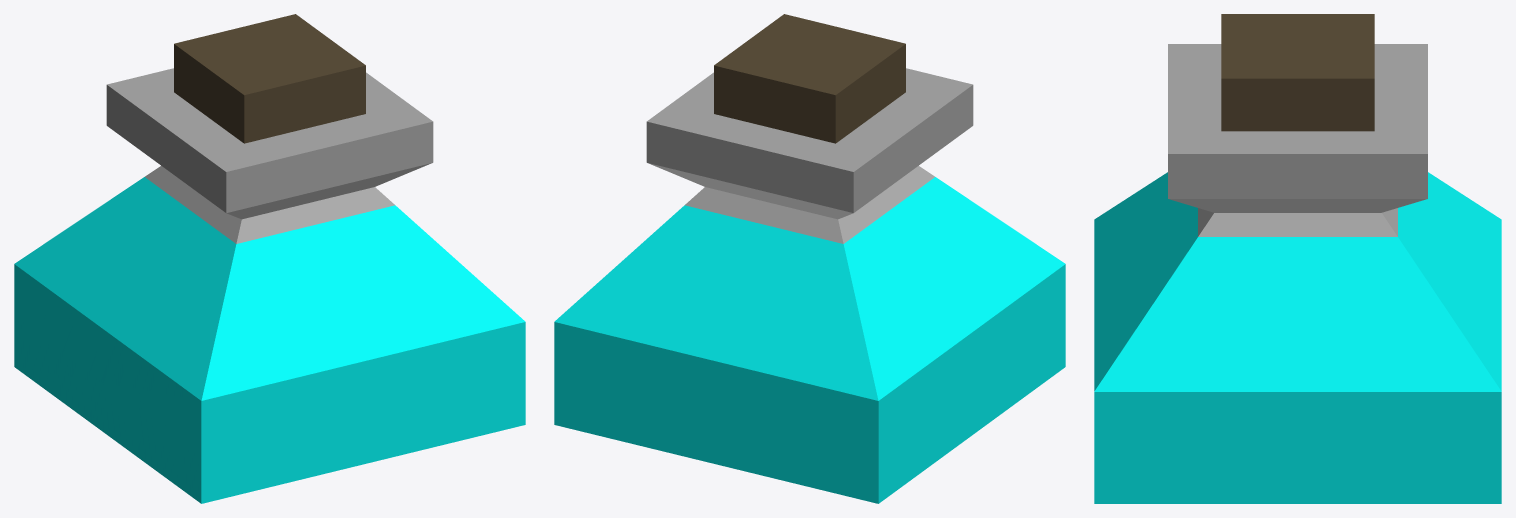
Rendered from Elixir2.fbx.
3 views of the same model, side by side, from view 1: azimuth 30°, elevation 25°; view 2: azimuth 150°, elevation 25°; view 3: azimuth 270°, elevation 25° (orthographic). The views are drawn at different scales.
Visible parts, largest first — view 1: pCube2; view 2: pCube2; view 3: pCube2.
Part boxes in pixels (x1=…): pCube2: x1=14, y1=14, x2=525, y2=503; pCube2: x1=554, y1=14, x2=1065, y2=503; pCube2: x1=1094, y1=14, x2=1501, y2=503.
Bounding box in the file's own units: 42.36 × 42.59 × 42.36.
